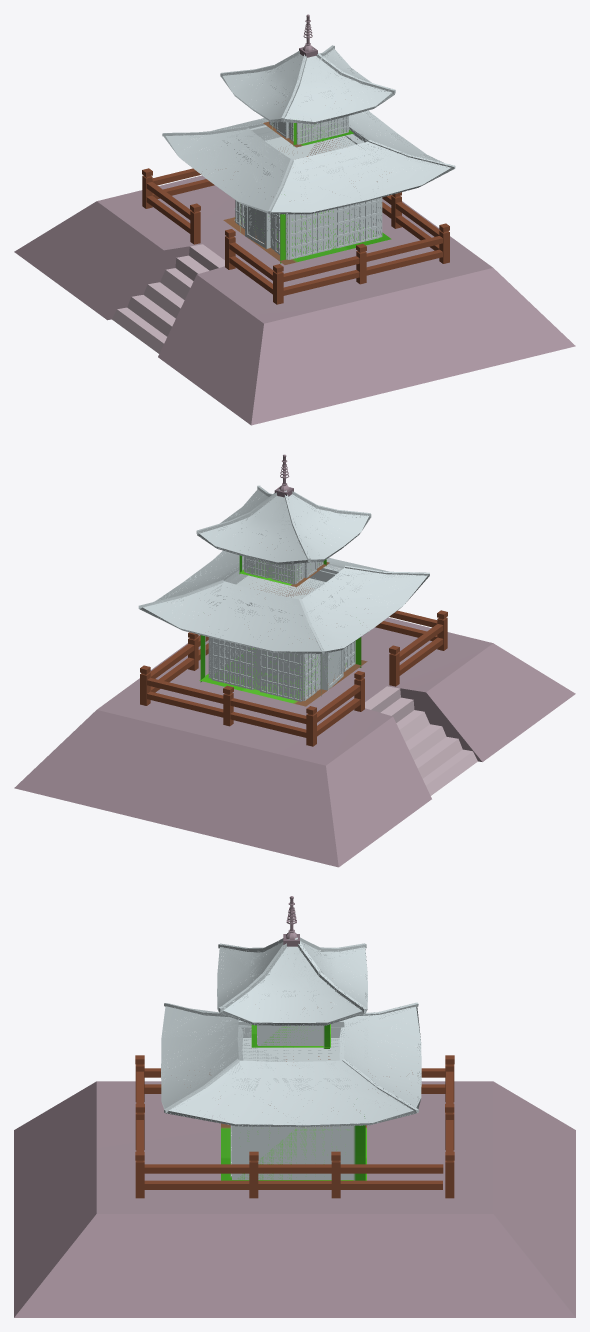
Rendered from houme015_1.fbx.
The picture shows the model from 3 angles, top to bottom: view 1: azimuth 30°, elevation 25°; view 2: azimuth 150°, elevation 25°; view 3: azimuth 270°, elevation 25°; orthographic projection. The views are drawn at different scales.
Parts seen in each view (by area): view 1: foundation_15_1_1, houme15_1, fence_15_1_1; view 2: foundation_15_1_1, houme15_1, fence_15_1_1; view 3: foundation_15_1_1, houme15_1, fence_15_1_1.
Part boxes in pixels (x1,y1,x2,y2): foundation_15_1_1: [14, 175, 575, 425]; houme15_1: [162, 45, 455, 264]; fence_15_1_1: [142, 168, 449, 304]; foundation_15_1_1: [14, 617, 575, 867]; houme15_1: [138, 485, 429, 706]; fence_15_1_1: [140, 610, 447, 746]; foundation_15_1_1: [14, 1081, 575, 1317]; houme15_1: [161, 937, 421, 1180]; fence_15_1_1: [135, 1055, 454, 1198].
Bounding box in the file's own units: 1870 × 1555 × 2365.
